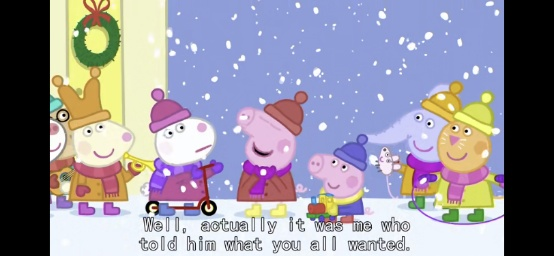Peppa: (233, 90, 309, 218)
